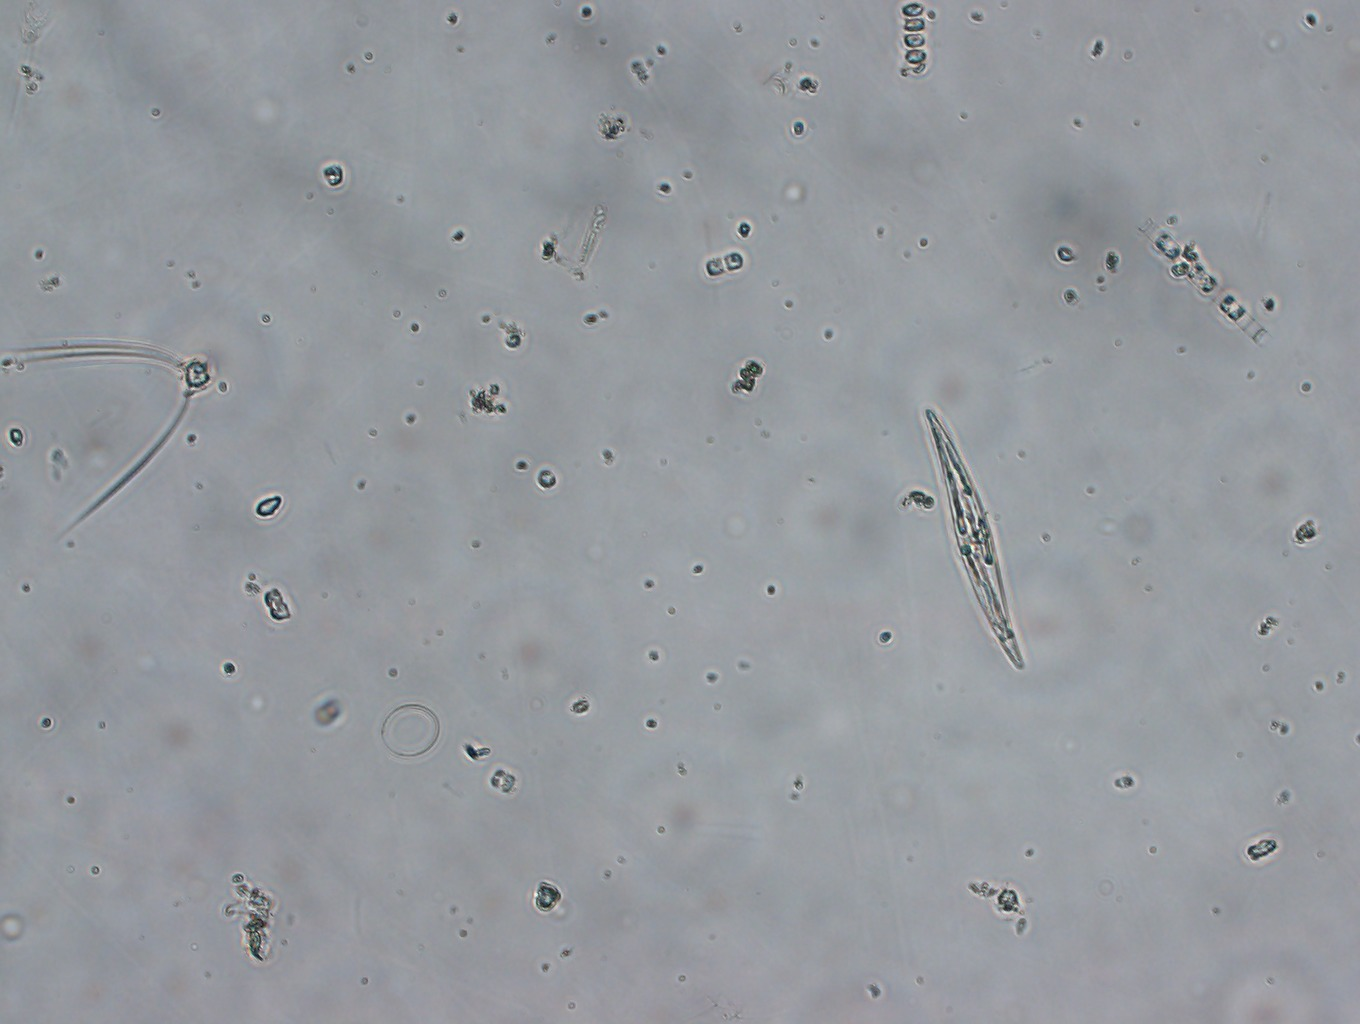chaetoceros: (1, 323, 212, 545)
pleurosigma pelagicum: (912, 403, 1026, 674)
skeletonema: (1135, 208, 1279, 356), (883, 1, 944, 89)
